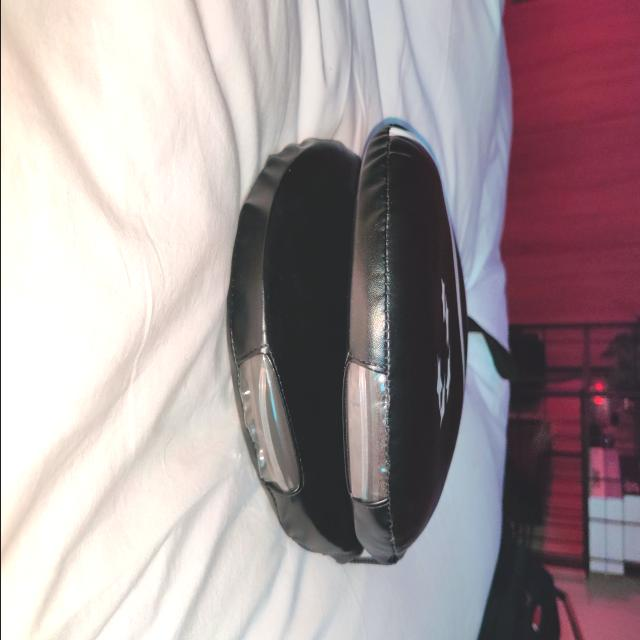paddle: (220, 115, 470, 568)
